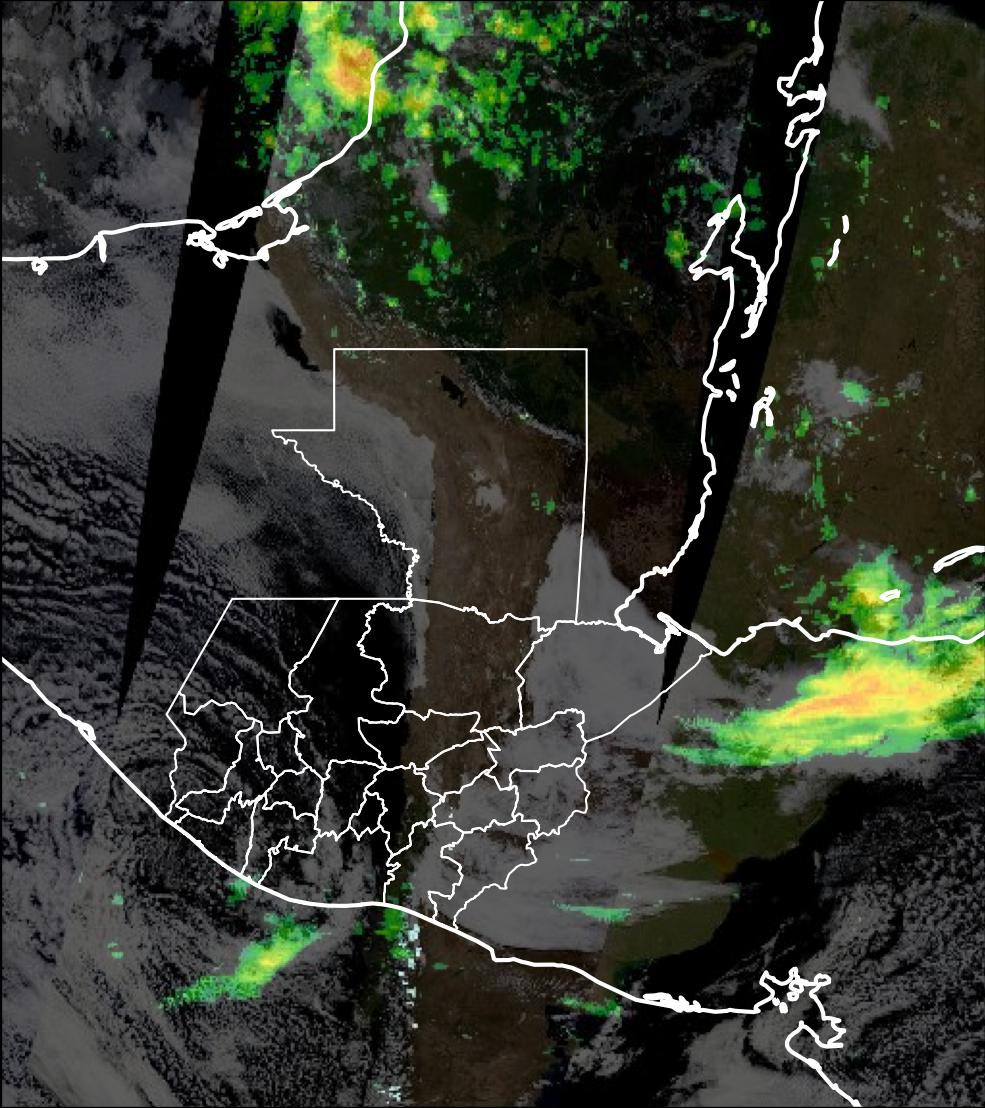precipitacion: (775, 664, 956, 727)
